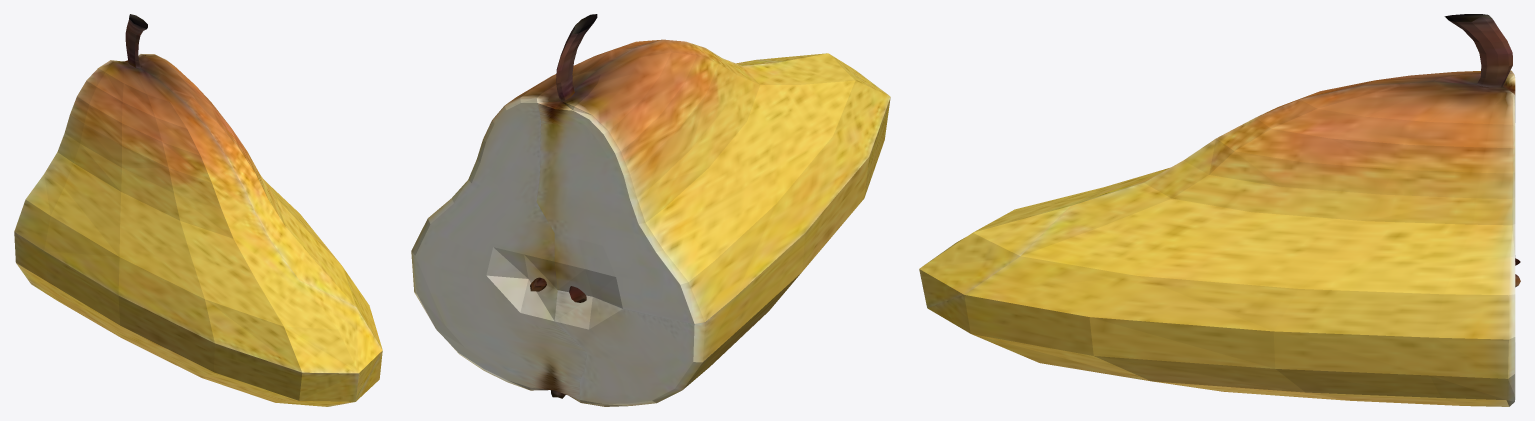
Rendered from pear_apple_5.glb.
3 views of the same model, side by side, from view 1: azimuth 30°, elevation 25°; view 2: azimuth 150°, elevation 25°; view 3: azimuth 270°, elevation 25° (orthographic). The views are drawn at different scales.
Visible parts, largest first — view 1: pear_apple_5; view 2: pear_apple_5; view 3: pear_apple_5.
Part boxes in pixels (x1,y1,x2,y2): pear_apple_5: [14, 14, 382, 406]; pear_apple_5: [411, 14, 890, 406]; pear_apple_5: [919, 14, 1520, 406].
Size of the model in its own units: 0.055 by 0.0652 by 0.0985.
Materials: 1 (1 with a texture image).
